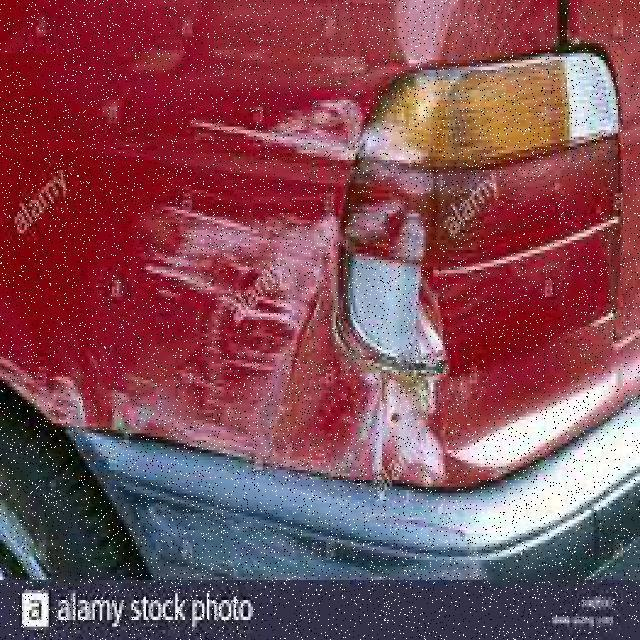Taillight-Damage: (309, 74, 504, 394)
quaterpanel-dent: (0, 0, 324, 470)
